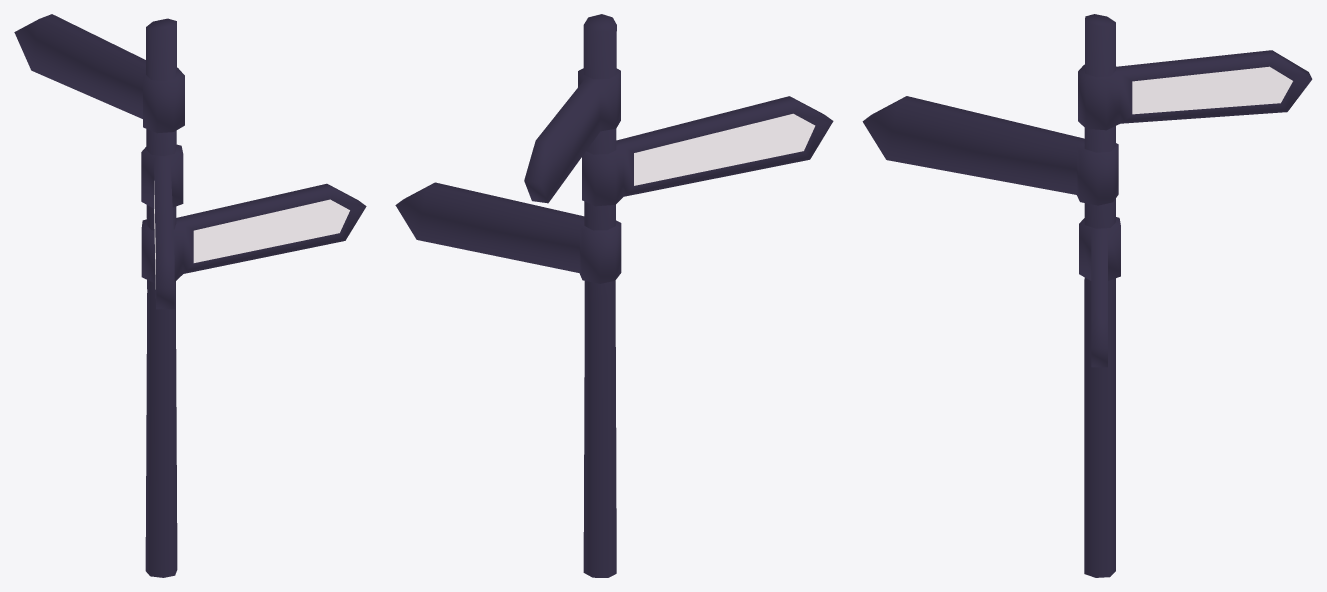
The model's file is sign_post.glb.
3 views of the same model, side by side, from view 1: azimuth 30°, elevation 25°; view 2: azimuth 150°, elevation 25°; view 3: azimuth 270°, elevation 25° (orthographic).
Parts seen in each view (by area): view 1: Object_2; view 2: Object_2; view 3: Object_2.
Part boxes in pixels (<box>): Object_2: <box>14,14,366,577</box>; Object_2: <box>395,14,833,577</box>; Object_2: <box>862,14,1312,577</box>.
Size of the model in its own units: 2.64 by 4.33 by 3.2.
Materials: 1 (1 with a texture image).
